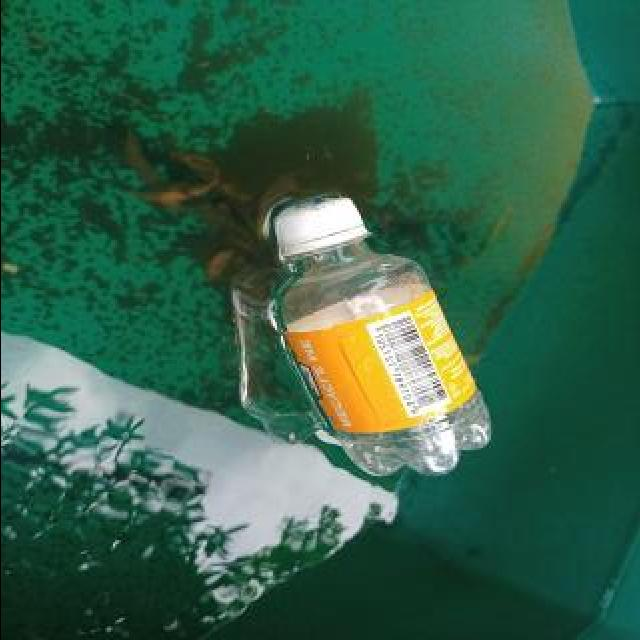Bottle: (260, 187, 498, 483)
